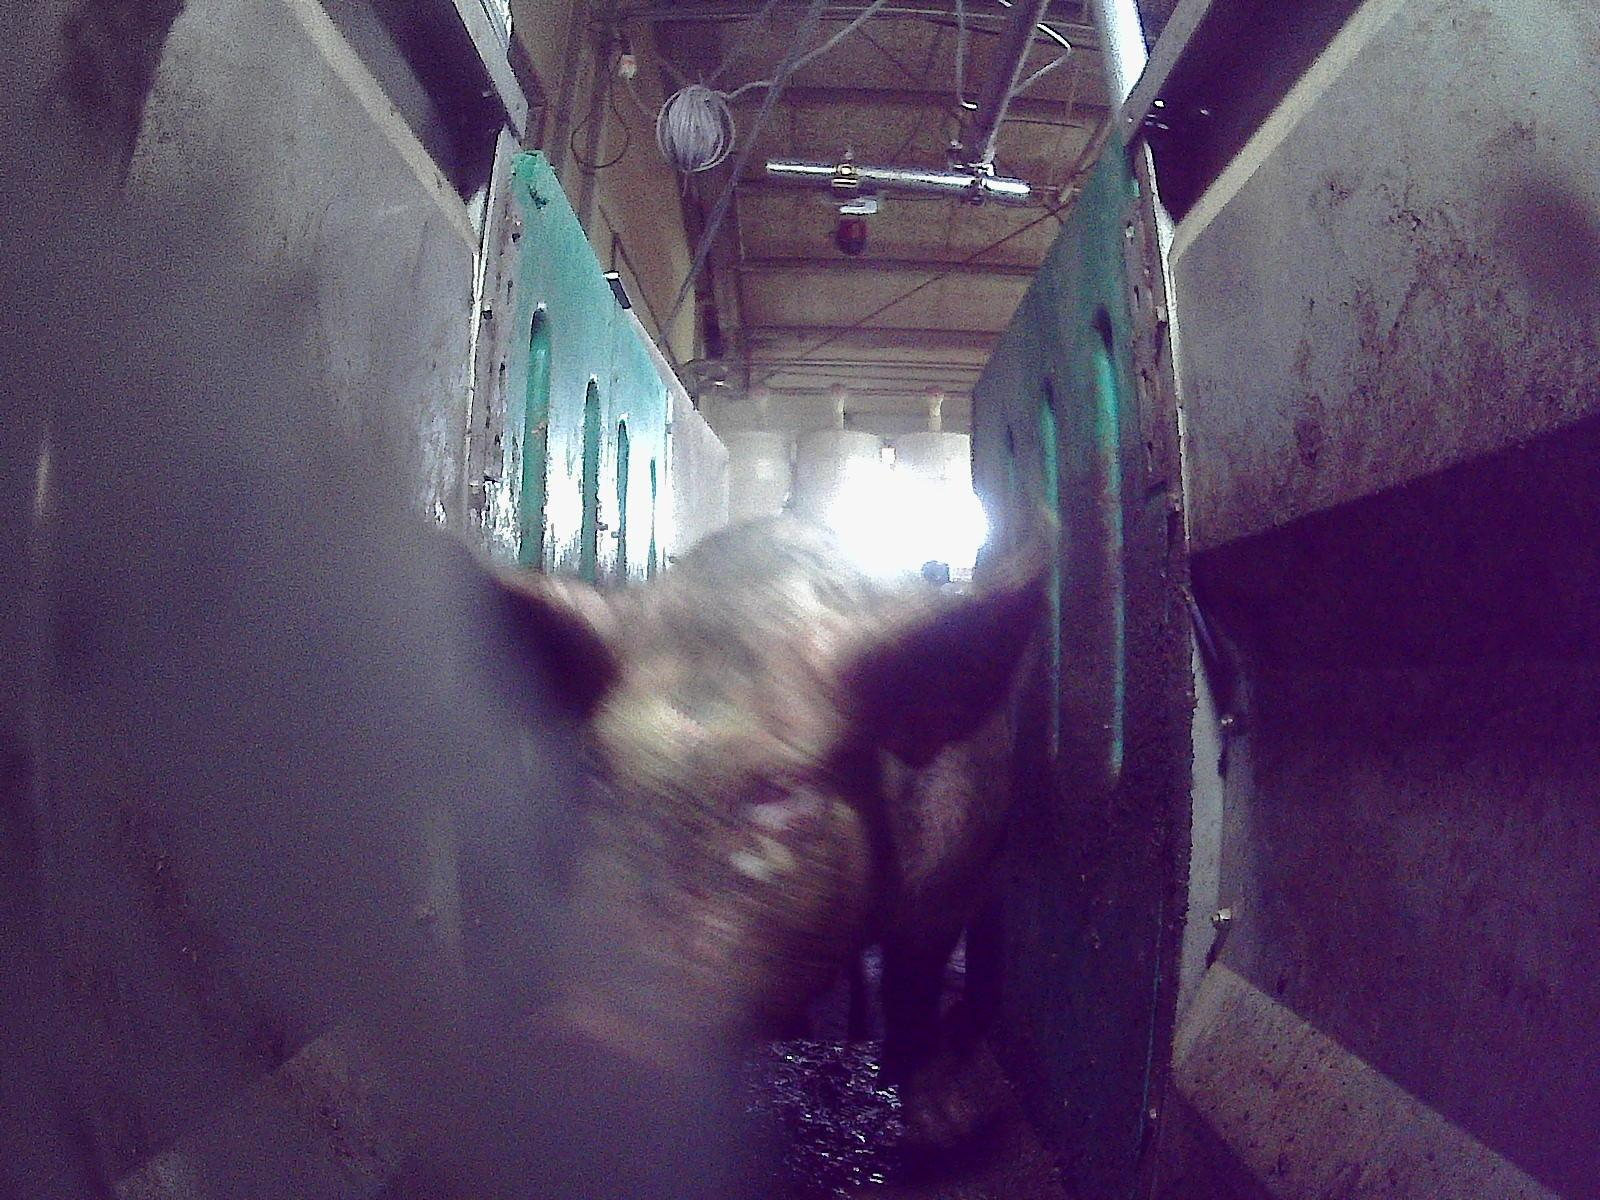Face: (517, 588, 894, 1114)
